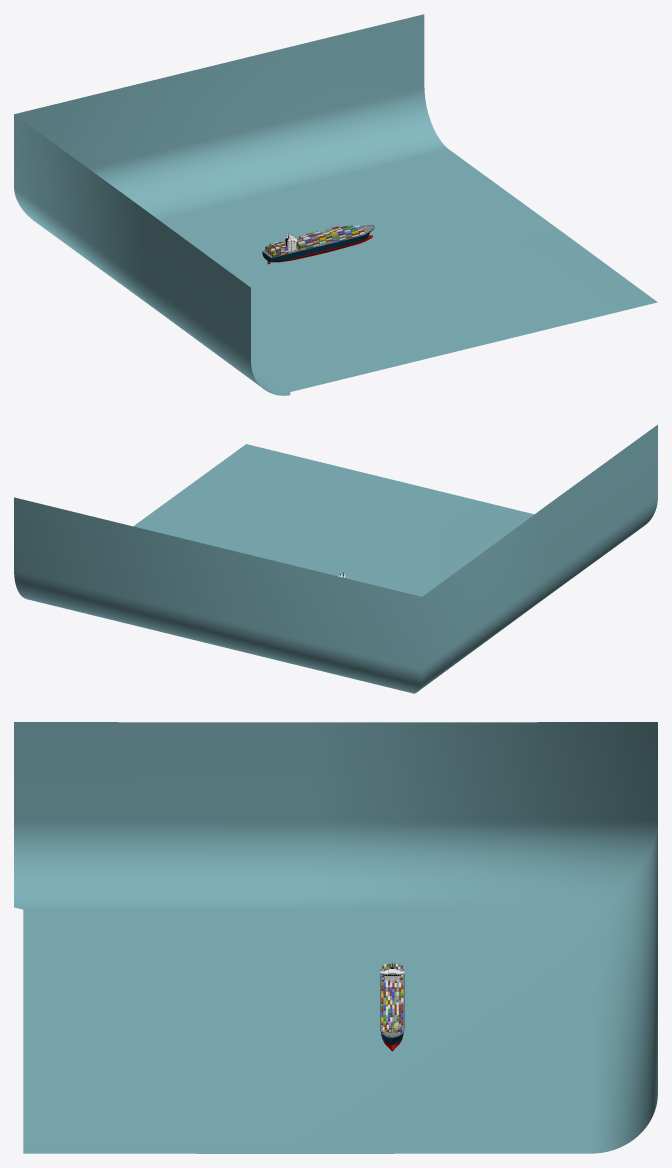
Rendered from ContainerShip.fbx.
3 views of the same model, one above another, from view 1: azimuth 30°, elevation 25°; view 2: azimuth 150°, elevation 25°; view 3: azimuth 270°, elevation 25° (orthographic). The views are drawn at different scales.
Visible parts, largest first — view 1: Plane.005, Cube.004, Gear; view 2: Plane.005; view 3: Plane.005, Cube.004, Gear.
Boxes of the visible parts, left/top/right/bottom form: Plane.005: left=14, top=14, right=657, bottom=395; Cube.004: left=265, top=225, right=364, bottom=256; Gear: left=262, top=224, right=374, bottom=264; Plane.005: left=14, top=424, right=657, bottom=693; Plane.005: left=14, top=722, right=657, bottom=1153; Cube.004: left=381, top=963, right=403, bottom=1032; Gear: left=380, top=969, right=404, bottom=1051.
Bounding box in the file's own units: 28609 × 7807 × 28581.
